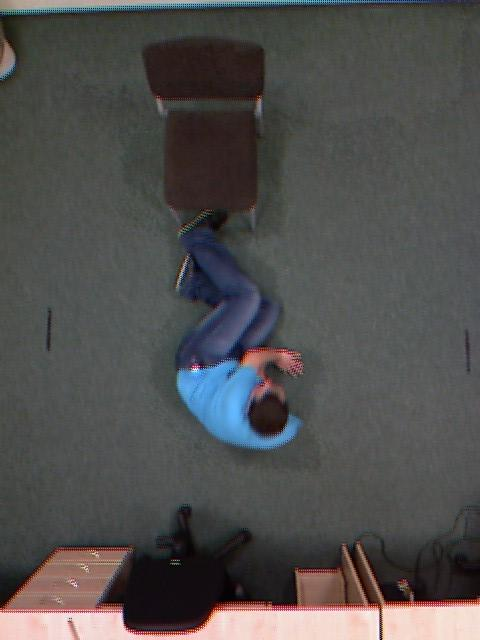fall: (136, 235, 331, 429)
